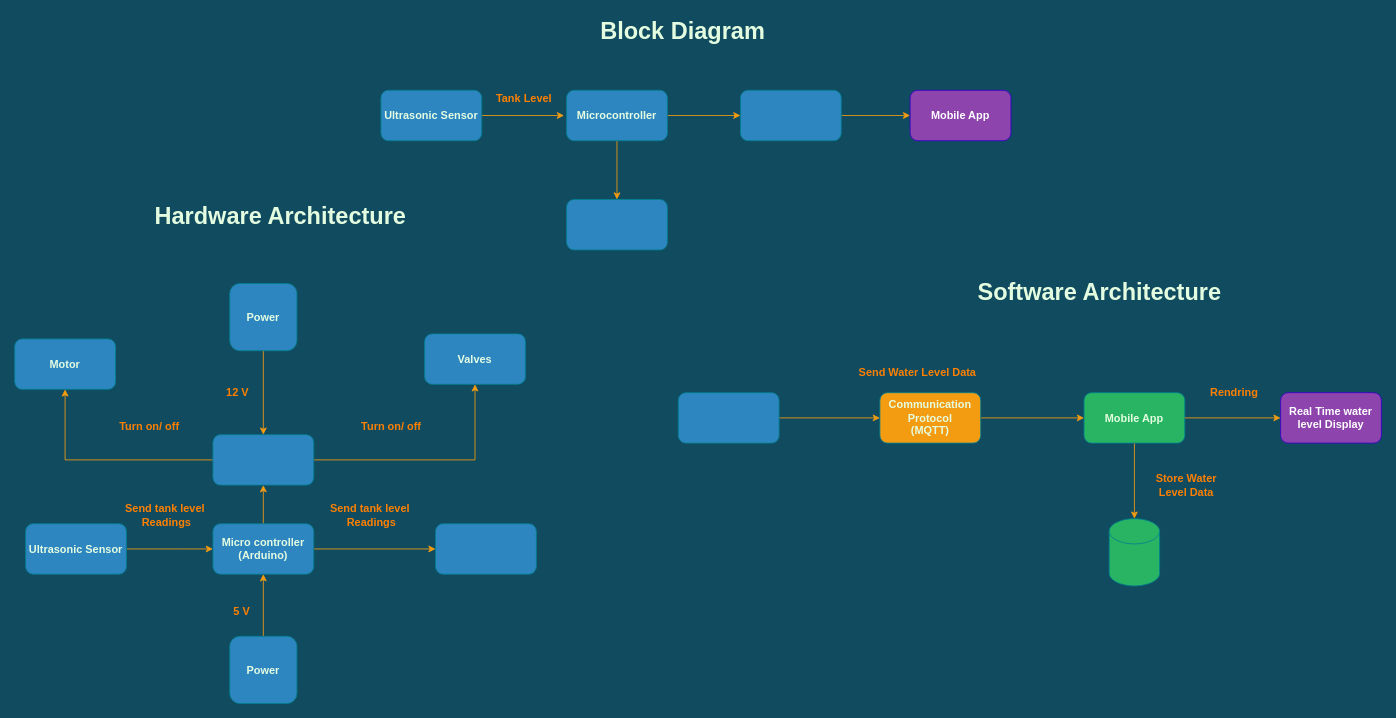
Image size: 1396x718. Some labels were removed from this diagram. Each missing label, with the centre of its shape:
DB: point (1134, 552)
Pump/Valves: point (616, 224)
Relay Module: point (263, 459)
Wi-Fi Module: point (790, 115)
WI-FI Module (ESP 8266): point (728, 417)
Wi-Fi Module (ESP8266): point (485, 548)
